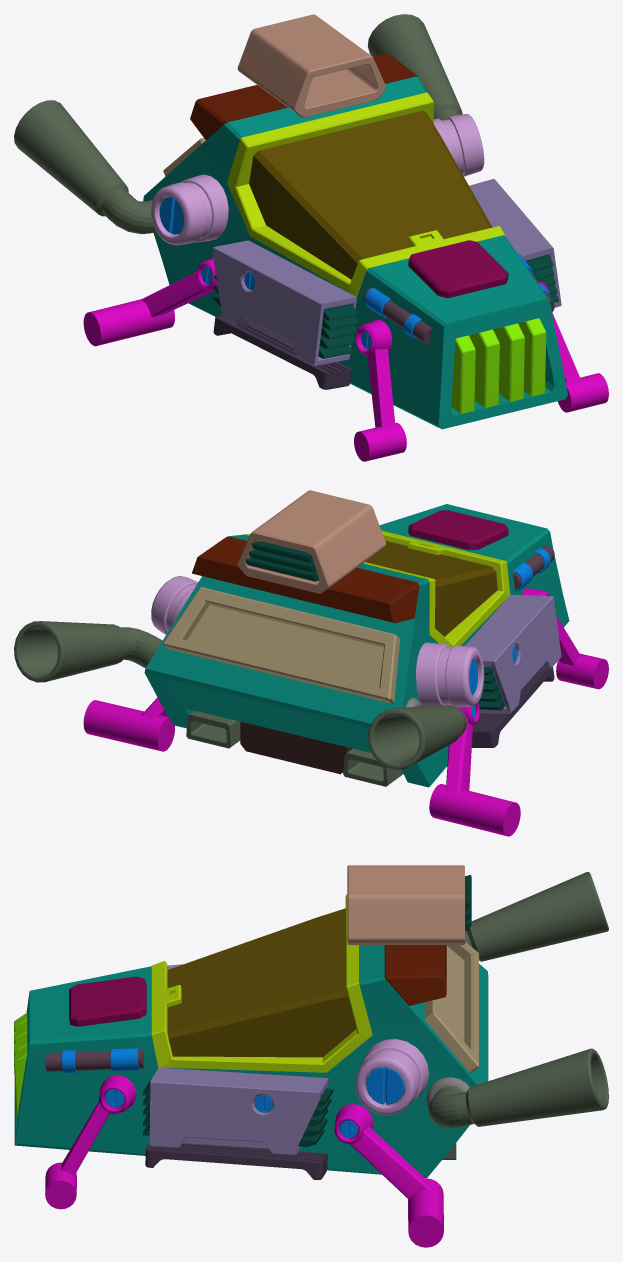
Rendered from Car_Body_V1.fbx.
The picture shows the model from 3 angles, top to bottom: view 1: azimuth 30°, elevation 25°; view 2: azimuth 150°, elevation 25°; view 3: azimuth 270°, elevation 25°; orthographic projection.
Visible parts, largest first — view 1: MainBody, Window1, RailBody, GrapplerBody, WindowFrame, RExhaust, RRearSupension, RFrontSuspension, LExhaust, Hood1, RBBody, RearFin (+9 smaller); view 2: MainBody, SpeedMeter, GrapplerBody, RailBody, RearFin, LExhaust, Window1, RRearSupension, RExhaust, RBBody, WindowFrame, LRearSuspension (+12 smaller); view 3: MainBody, Window1, RailBody, GrapplerBody, LExhaust, RExhaust, WindowFrame, LRearSuspension, SpeedMeter, LFrontSuspension, RearFin, Hood1 (+9 smaller).
Part boxes in pixels (bbox=[...]): MainBody: bbox=[143, 76, 567, 429]; Window1: bbox=[249, 110, 492, 279]; RailBody: bbox=[212, 178, 561, 365]; GrapplerBody: bbox=[237, 14, 386, 117]; WindowFrame: bbox=[227, 92, 505, 296]; RExhaust: bbox=[14, 100, 128, 216]; RRearSupension: bbox=[83, 258, 217, 346]; RFrontSuspension: bbox=[354, 319, 406, 461]; LExhaust: bbox=[367, 14, 462, 116]; Hood1: bbox=[408, 240, 508, 298]; RBBody: bbox=[151, 174, 228, 245]; RearFin: bbox=[190, 53, 417, 139]; MainBody: bbox=[144, 504, 569, 787]; SpeedMeter: bbox=[162, 587, 400, 703]; GrapplerBody: bbox=[237, 490, 386, 593]; RailBody: bbox=[465, 595, 561, 713]; RearFin: bbox=[192, 536, 419, 623]; LExhaust: bbox=[14, 621, 128, 682]; Window1: bbox=[365, 540, 497, 636]; RRearSupension: bbox=[429, 702, 520, 836]; RExhaust: bbox=[367, 705, 462, 769]; RBBody: bbox=[416, 642, 484, 707]; WindowFrame: bbox=[243, 530, 510, 647]; LRearSuspension: bbox=[83, 697, 174, 751]; MainBody: bbox=[14, 945, 488, 1177]; Window1: bbox=[167, 908, 356, 1057]; RailBody: bbox=[149, 964, 328, 1155]; GrapplerBody: bbox=[347, 865, 464, 944]; LExhaust: bbox=[466, 1048, 608, 1126]; RExhaust: bbox=[467, 872, 608, 961]; WindowFrame: bbox=[151, 894, 372, 1072]; LRearSuspension: bbox=[334, 1104, 443, 1247]; SpeedMeter: bbox=[424, 941, 478, 1073]; LFrontSuspension: bbox=[45, 1075, 136, 1209]; RearFin: bbox=[384, 945, 446, 1005]; Hood1: bbox=[69, 976, 146, 1026].
Bounding box in the file's own units: 0.0333 × 0.0201 × 0.0401.
